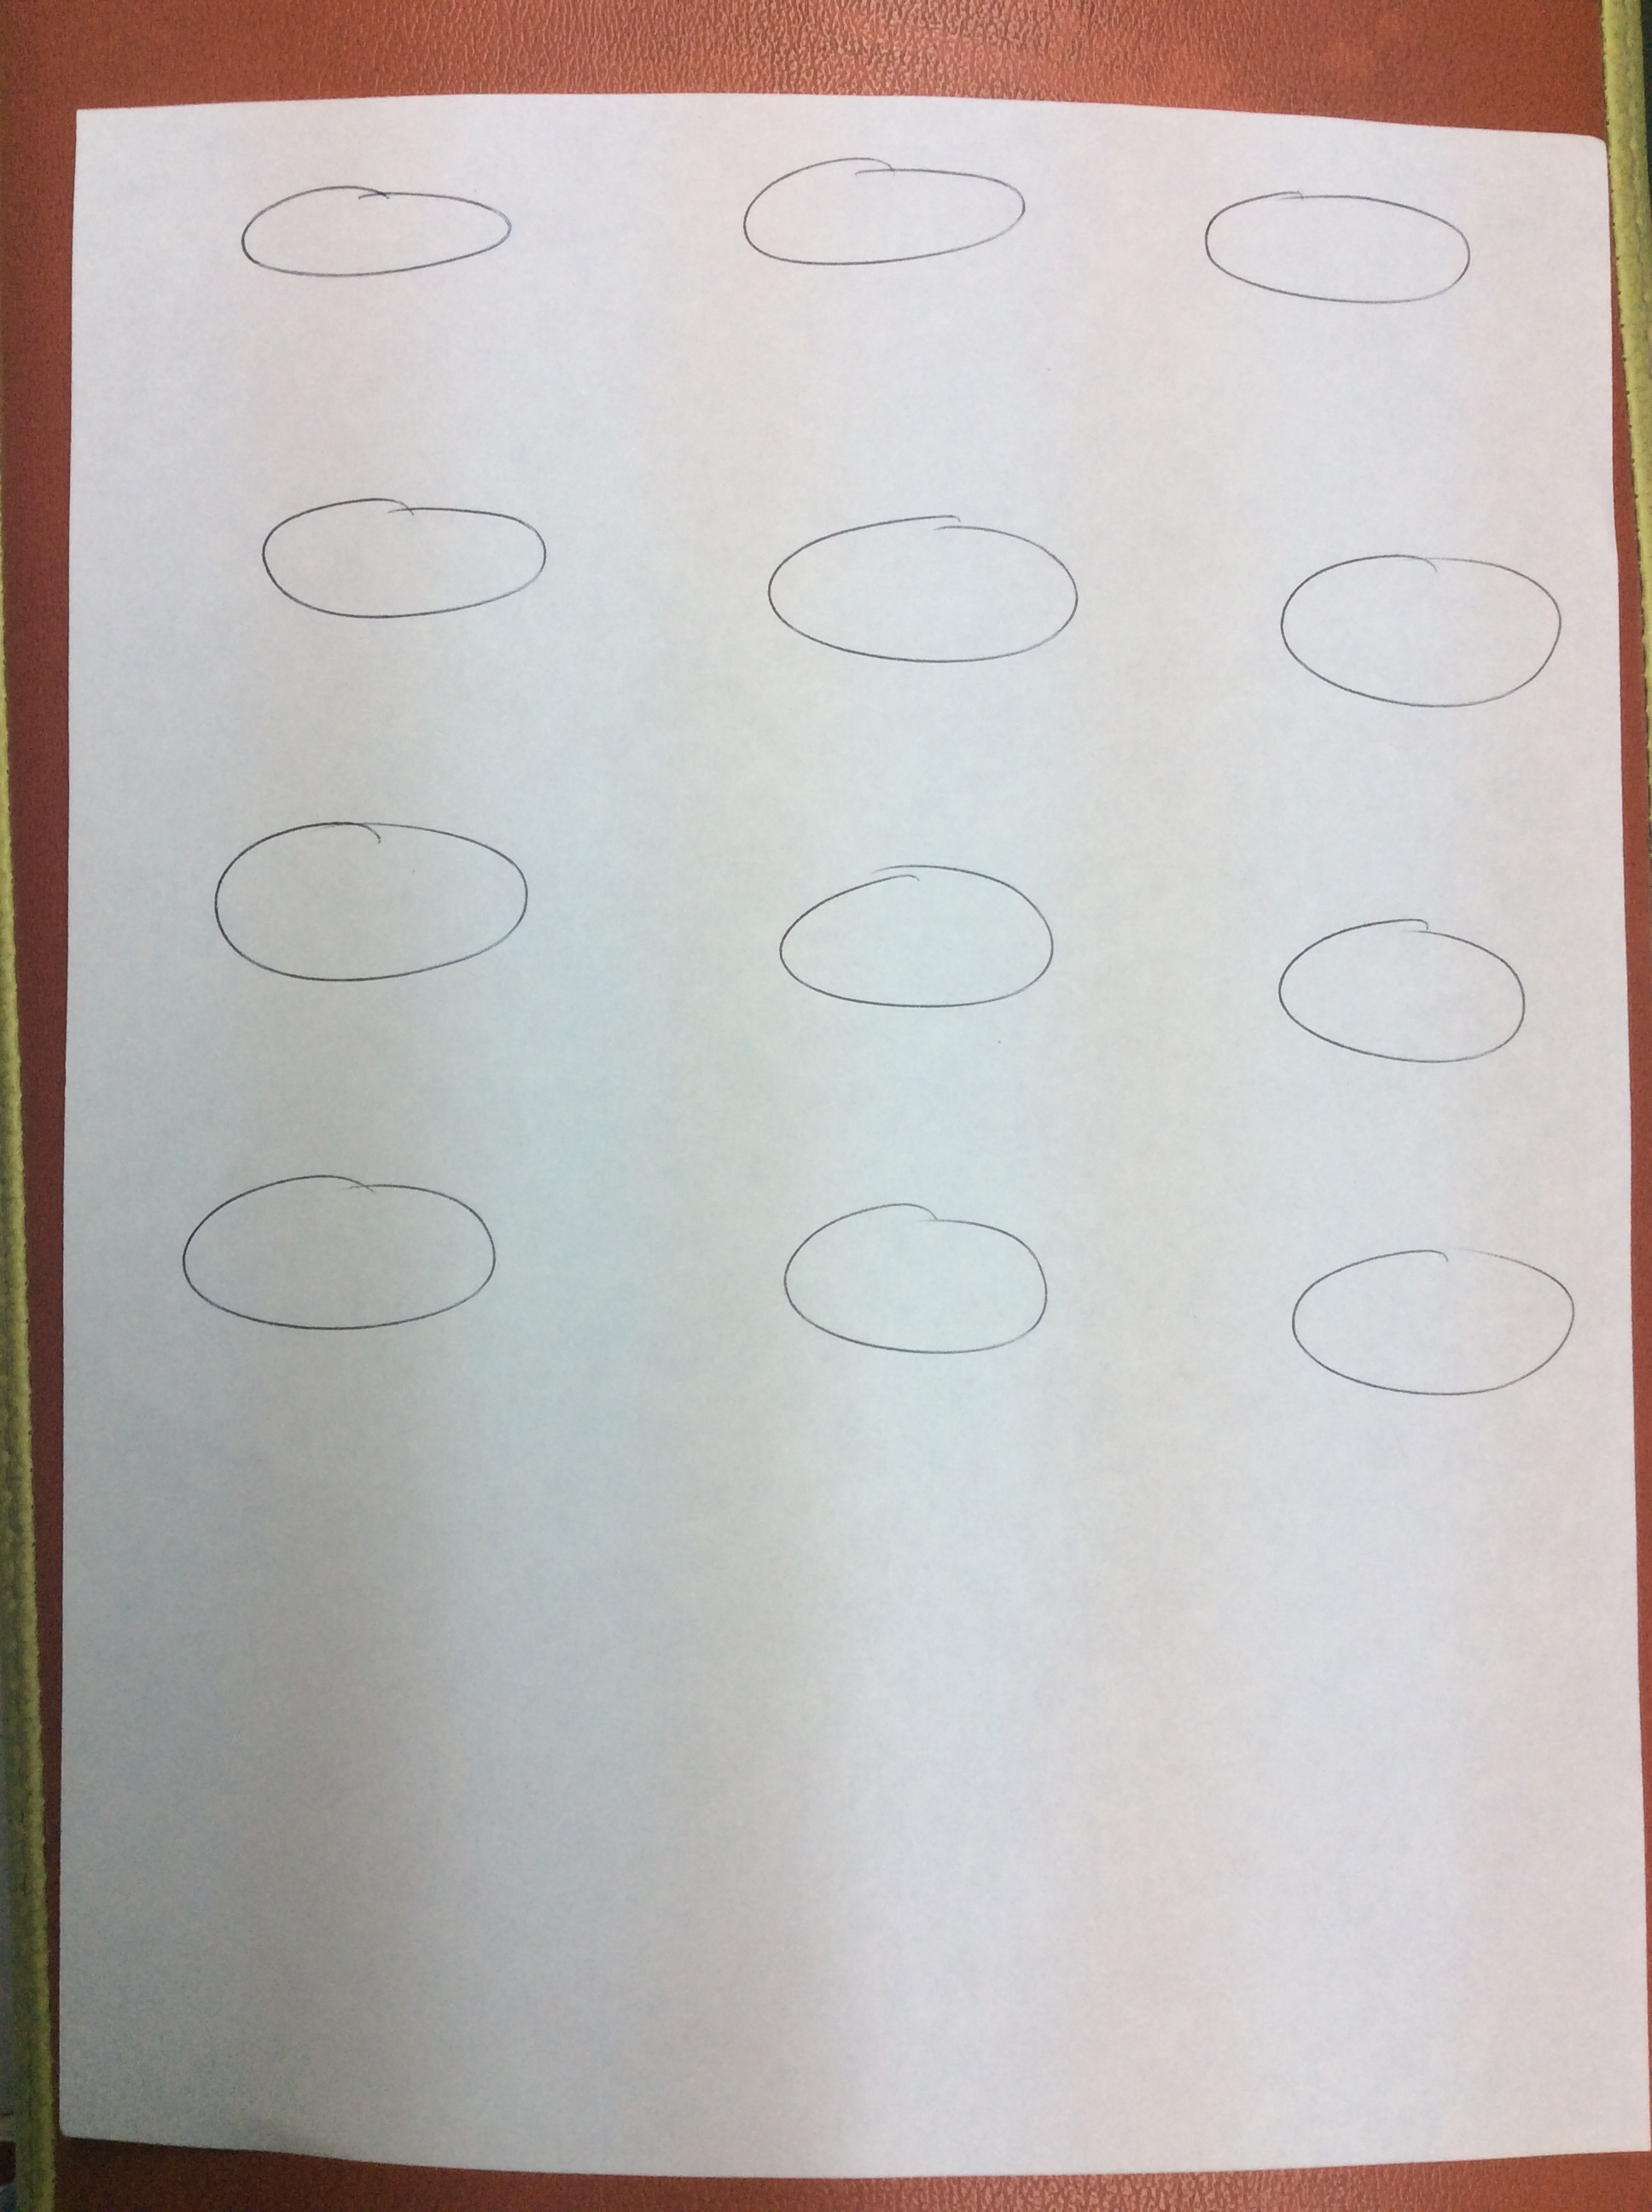start_end: (182, 791, 559, 1013), (750, 1175, 1100, 1410), (1248, 501, 1590, 730), (149, 1154, 538, 1355), (1251, 1206, 1596, 1421), (725, 481, 1086, 677), (746, 836, 1081, 1044), (227, 468, 588, 659), (1255, 885, 1565, 1100), (1183, 154, 1503, 352), (220, 137, 531, 311), (718, 137, 1053, 293)
